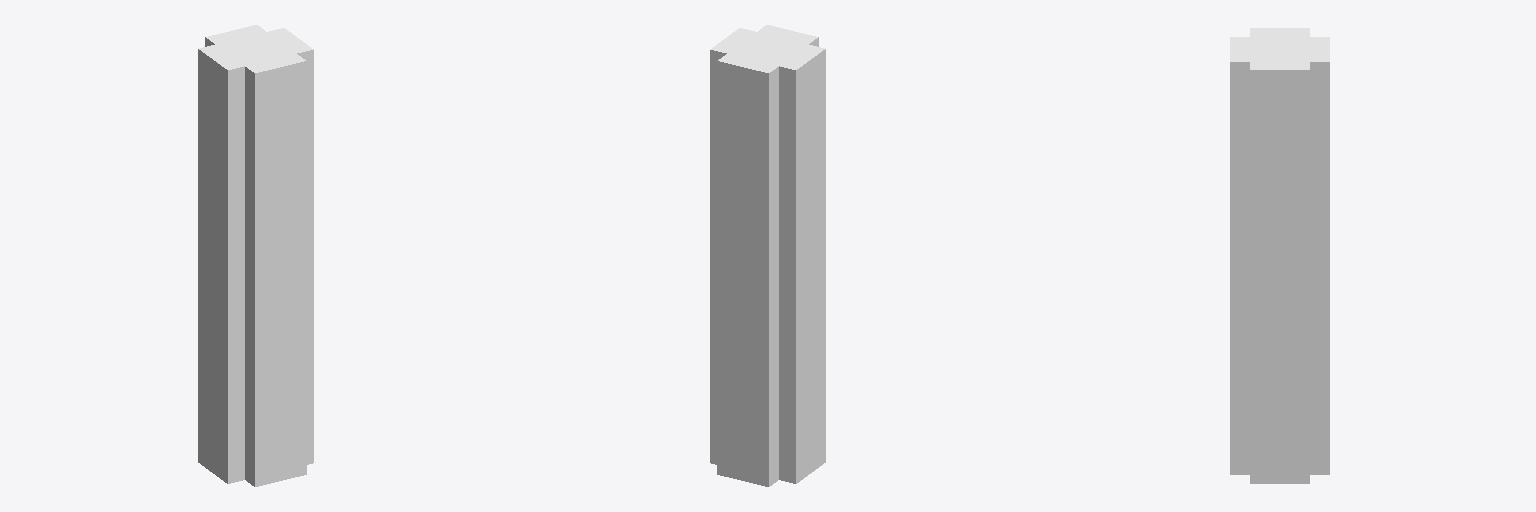
Rendered from robot_arm_shoulder.obj.
3 renders of one model, left to right at view 1: azimuth 30°, elevation 25°; view 2: azimuth 150°, elevation 25°; view 3: azimuth 270°, elevation 25°, orthographic.
Visible parts, largest first — view 1: robot_arm_shoulder; view 2: robot_arm_shoulder; view 3: robot_arm_shoulder.
Part boxes in pixels (x1,y1,x2,y2): robot_arm_shoulder: (198, 25, 313, 486); robot_arm_shoulder: (710, 25, 825, 486); robot_arm_shoulder: (1230, 28, 1329, 483).
Size of the model in its own units: 5 by 23 by 5.